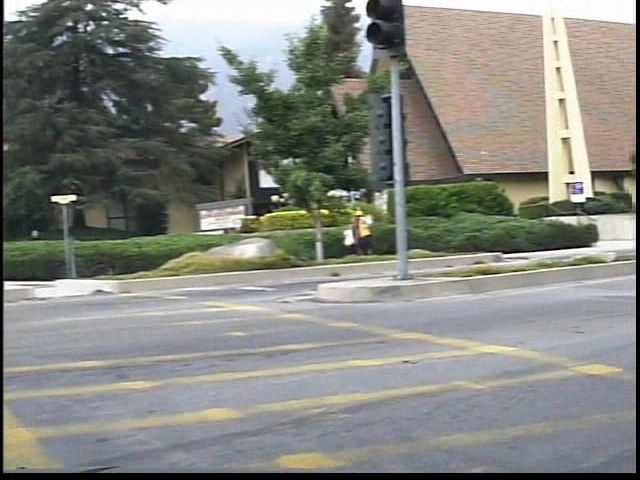person: (364, 204, 392, 259)
